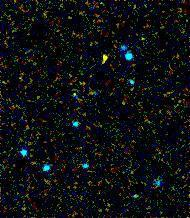star: (87, 43, 117, 73)
